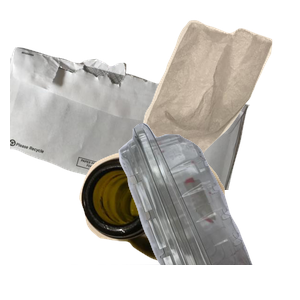glass: (77, 147, 295, 300)
paper: (10, 45, 250, 225)
plastic: (71, 120, 300, 300)
trash: (132, 17, 300, 177)
